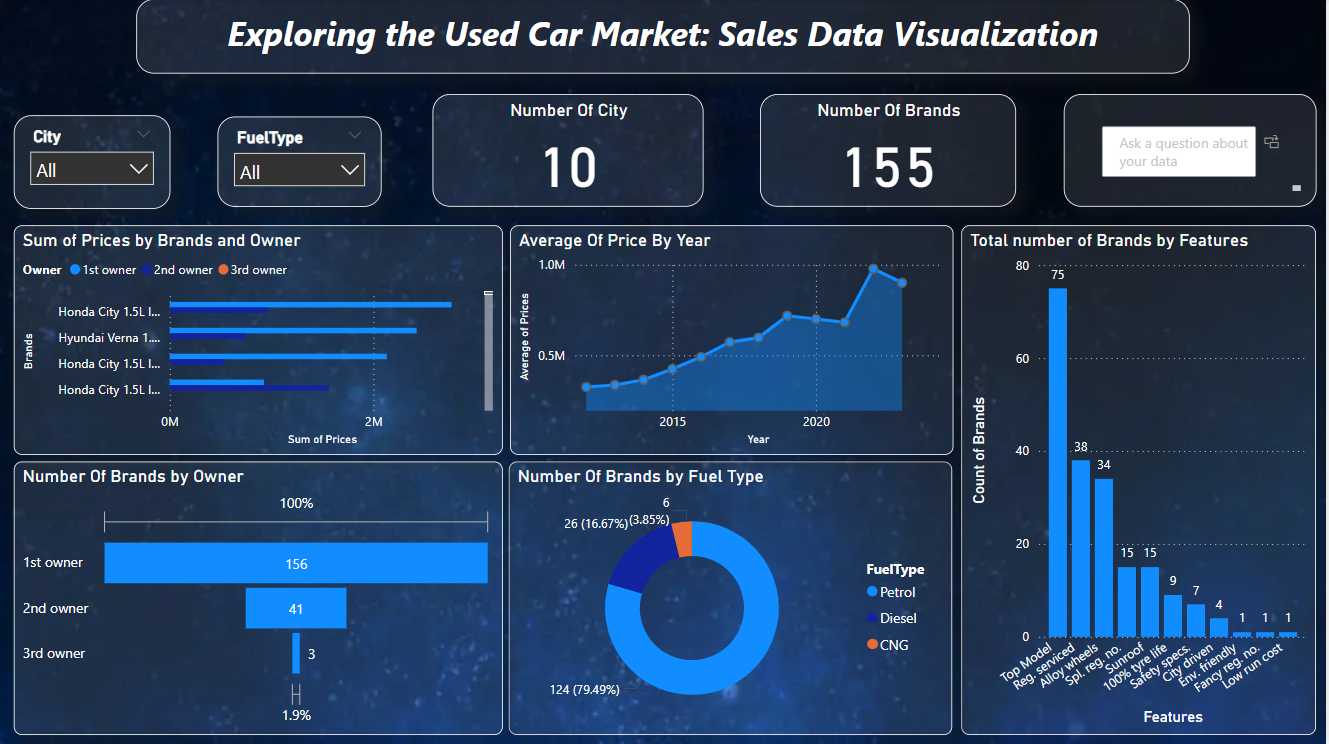

The dashboard page shown, as its layout file describes it:
{"tool":"powerbi","page":{"name":"Page 1","canvas":[1280,720],"ordinal":0},"visuals":[{"type":"columnChart","title":"Total number of Brands by Features","fields":{"Category":["Append1.Features"],"Y":["CountNonNull(Append1.Brands)"]},"box":[927.8,218.4,342.6,492.2],"z":0},{"type":"slicer","fields":{"Values":["Append1.City"]},"box":[13.3,112.2,150.8,90.5],"z":1000},{"type":"donutChart","title":"Number Of Brands by Fuel Type","fields":{"Category":["Append1.FuelType"],"Y":["Count(Append1.Brands)"]},"box":[491,446.4,428.3,264.2],"z":2000},{"type":"clusteredBarChart","fields":{"Category":["Append1.Brands"],"Y":["Sum(Append1.Prices)"],"Series":["Append1.Owner"]},"box":[13.3,218.4,471.7,222],"z":3000},{"type":"card","title":"Number Of City","fields":{"Values":["Count(Append1.City)"]},"box":[417.4,91.7,261.8,108.6],"z":4000},{"type":"funnel","title":"Number Of Brands by Owner","fields":{"Category":["Append1.Owner"],"Y":["CountNonNull(Append1.Brands)"]},"box":[13.3,446.4,471.7,264.2],"z":5000},{"type":"card","title":"Number Of Brands","fields":{"Values":["Count(Append1.Brands)"]},"box":[733.5,91.7,247.3,108.6],"z":6000},{"type":"qnaVisual","box":[1026.7,91.7,243.7,108.6],"z":7000},{"type":"slicer","fields":{"Values":["Append1.FuelType"]},"box":[209.9,113.4,158,86.9],"z":8000},{"type":"textbox","box":[131.5,0,1017,72.4],"z":9000},{"type":"lineChart","title":"Average Of Price By Year","fields":{"Category":["Append1.Year"],"Y":["Avg(Append1.Prices)"]},"box":[492.2,218.4,428.3,222],"z":10000}]}

Visuals, with their boxes in screenshot pixels (x1, y1, x2, y2), scaled from the page's 1280x720 canvas onto the 1329x744 screenshot:
"Total number of Brands by Features" columnChart: x1=963 y1=226 x2=1319 y2=734
slicer - Append1.City: x1=14 y1=116 x2=170 y2=209
"Number Of Brands by Fuel Type" donutChart: x1=510 y1=461 x2=954 y2=734
clusteredBarChart - Append1.Brands x Sum(Append1.Prices): x1=14 y1=226 x2=504 y2=455
"Number Of City" card: x1=433 y1=95 x2=705 y2=207
"Number Of Brands by Owner" funnel: x1=14 y1=461 x2=504 y2=734
"Number Of Brands" card: x1=762 y1=95 x2=1018 y2=207
qnaVisual: x1=1066 y1=95 x2=1319 y2=207
slicer - Append1.FuelType: x1=218 y1=117 x2=382 y2=207
textbox: x1=137 y1=0 x2=1192 y2=75
"Average Of Price By Year" lineChart: x1=511 y1=226 x2=956 y2=455
